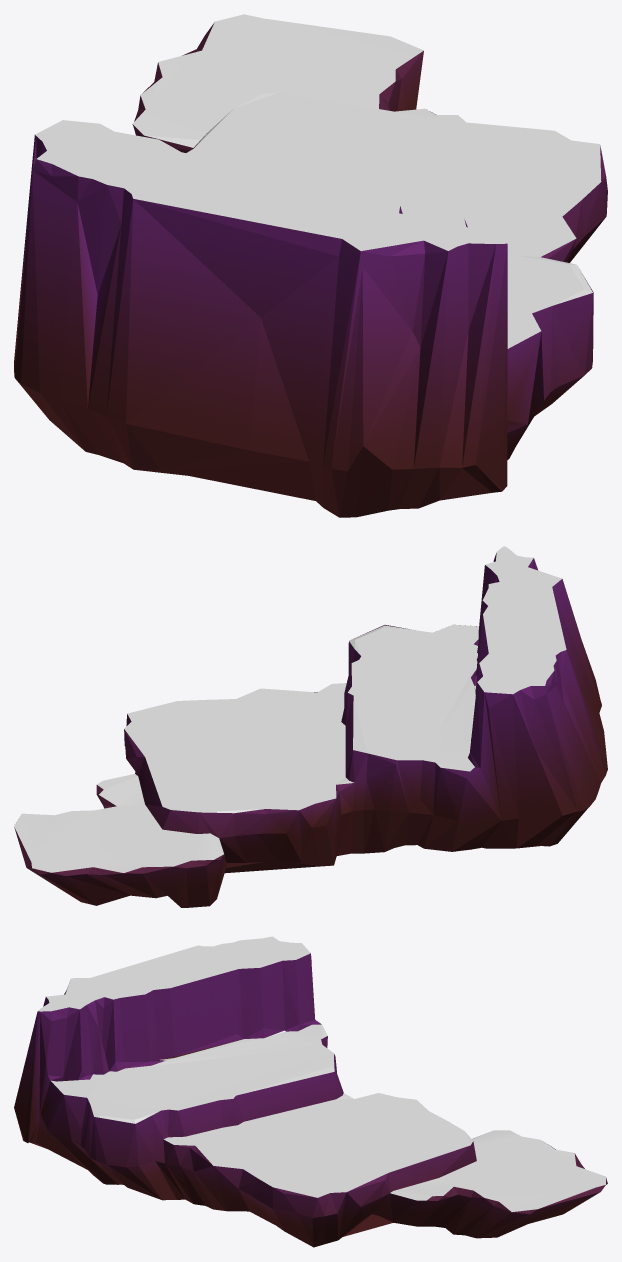
File: MOD_Level4.fbx
3 renders of one model, top to bottom at view 1: azimuth 30°, elevation 25°; view 2: azimuth 150°, elevation 25°; view 3: azimuth 270°, elevation 25°, orthographic. The views are drawn at different scales.
Parts seen in each view (by area): view 1: MOD_Level4, MOD_Level4_Floor; view 2: MOD_Level4_Floor, MOD_Level4; view 3: MOD_Level4, MOD_Level4_Floor.
Part boxes in pixels (bbox=[...]): MOD_Level4: bbox=[14, 22, 607, 517]; MOD_Level4_Floor: bbox=[35, 14, 601, 348]; MOD_Level4_Floor: bbox=[14, 546, 566, 872]; MOD_Level4: bbox=[14, 553, 607, 907]; MOD_Level4: bbox=[14, 953, 607, 1247]; MOD_Level4_Floor: bbox=[38, 936, 605, 1211].
Size of the model in its own units: 15.6 by 6.27 by 21.66.
Materials: 2 (1 with a texture image).
